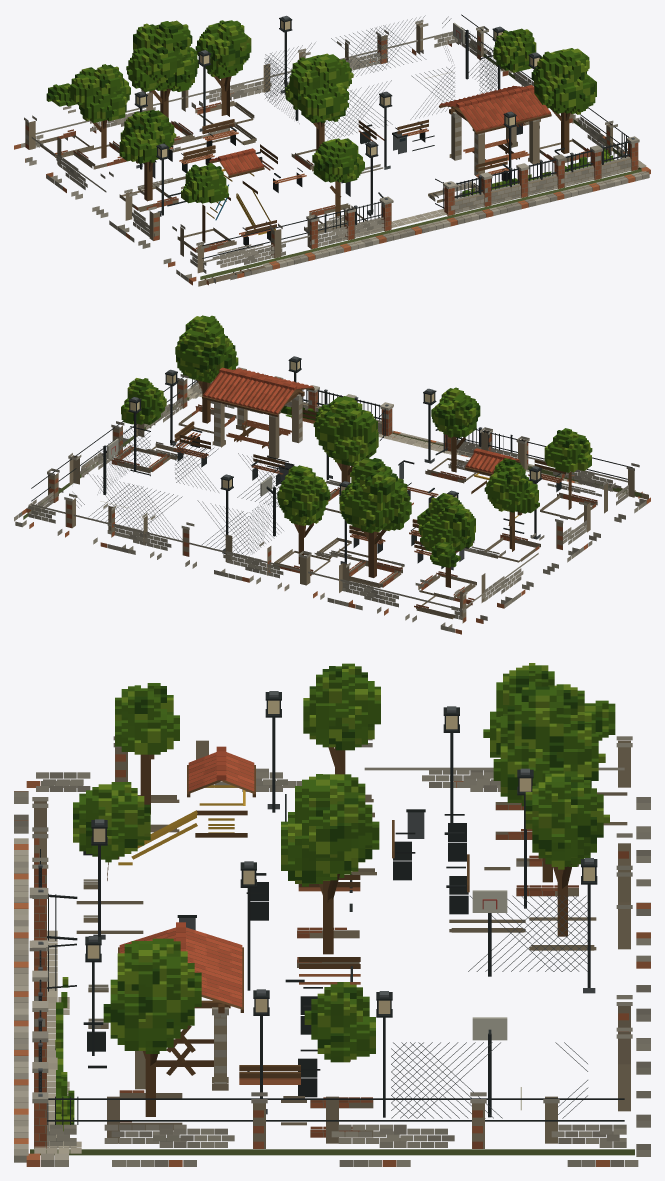
The model's file is SM_StreetFrontage_117.fbx.
3 renders of one model, top to bottom at view 1: azimuth 30°, elevation 25°; view 2: azimuth 150°, elevation 25°; view 3: azimuth 270°, elevation 25°, orthographic. The views are drawn at different scales.
Parts seen in each view (by area): view 1: SM_StreetFrontage_117; view 2: SM_StreetFrontage_117; view 3: SM_StreetFrontage_117.
Boxes of the visible parts, box(x1,y1,x2,y2) form: SM_StreetFrontage_117: box(14, 14, 650, 286); SM_StreetFrontage_117: box(14, 315, 650, 634); SM_StreetFrontage_117: box(14, 663, 650, 1166).
Bounding box in the file's own units: 80 × 56.85 × 19.9.
